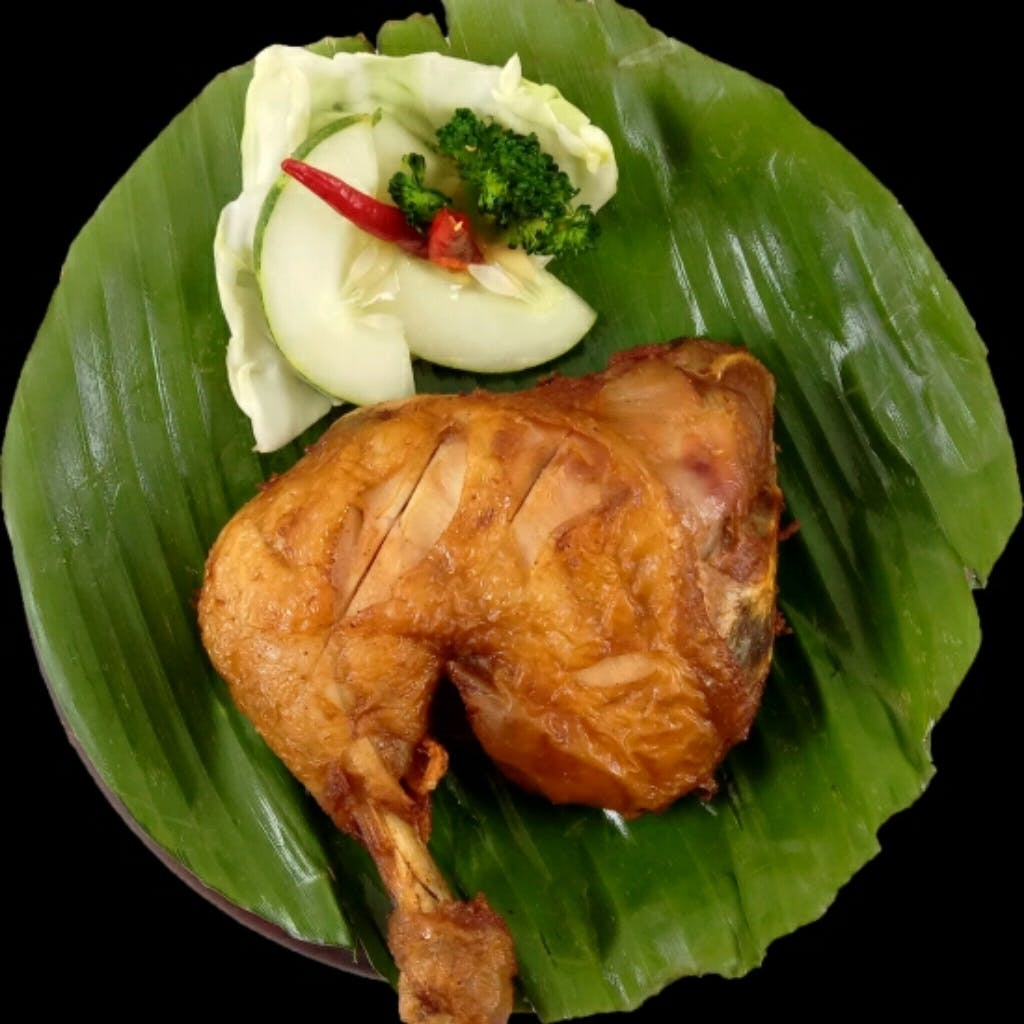ayam_goreng: (185, 339, 792, 1024)
